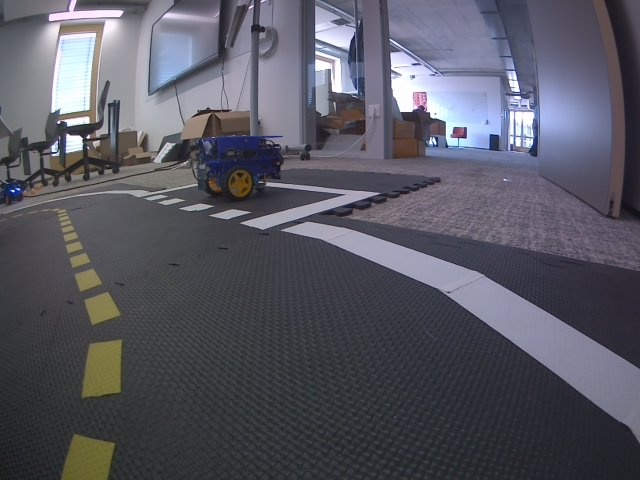Bot: (189, 135, 283, 199), (6, 182, 22, 206)
occupiedSlot: (138, 175, 379, 231)
